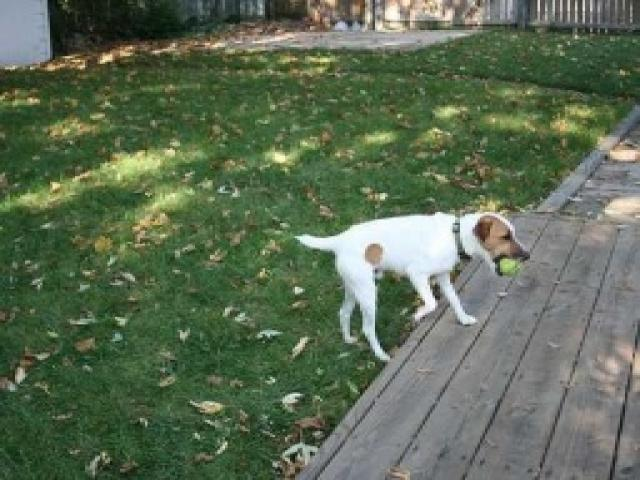tennis-ball: (495, 255, 525, 278)
